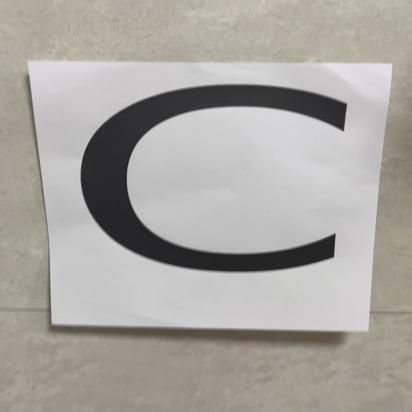seat: (24, 52, 374, 316)
